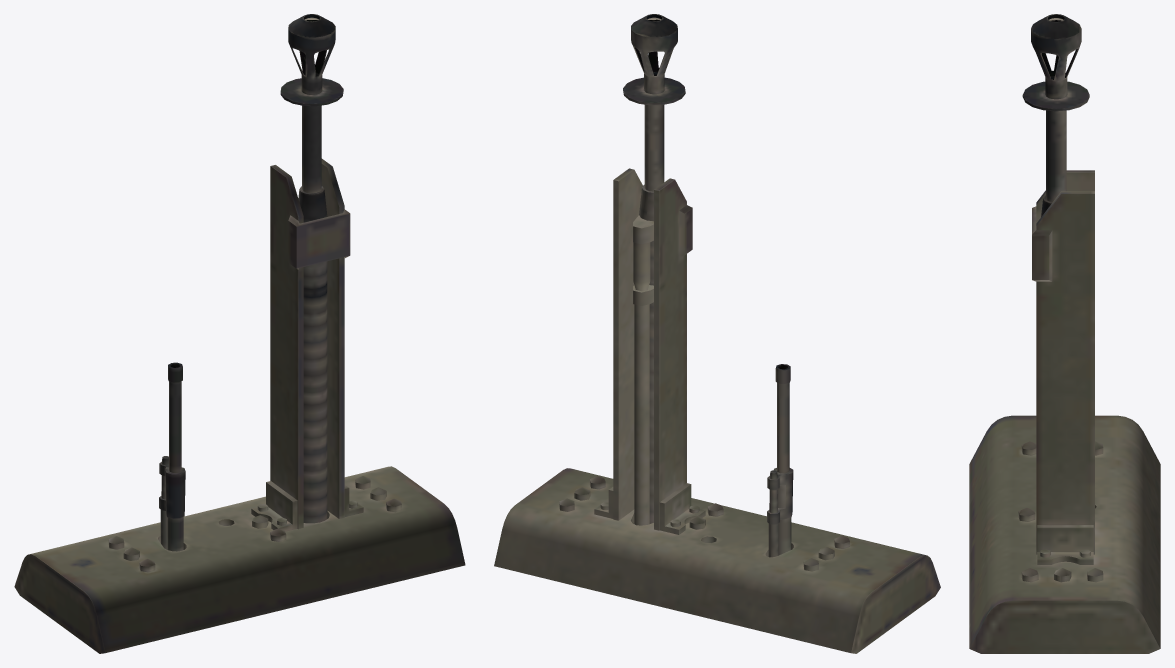
Rendered from Gun_02.glb.
The picture shows the model from 3 angles, left to right: view 1: azimuth 30°, elevation 25°; view 2: azimuth 150°, elevation 25°; view 3: azimuth 270°, elevation 25°; orthographic projection. The views are drawn at different scales.
Parts seen in each view (by area): view 1: set_0_group_0; view 2: set_0_group_0; view 3: set_0_group_0.
Part boxes in pixels (x1,y1,x2,y2): set_0_group_0: (14,14,465,653); set_0_group_0: (494,14,940,653); set_0_group_0: (969,14,1160,653).
Bounding box in the file's own units: 0.673 × 0.9799 × 0.2935.
Materials: 1 (1 with a texture image).
